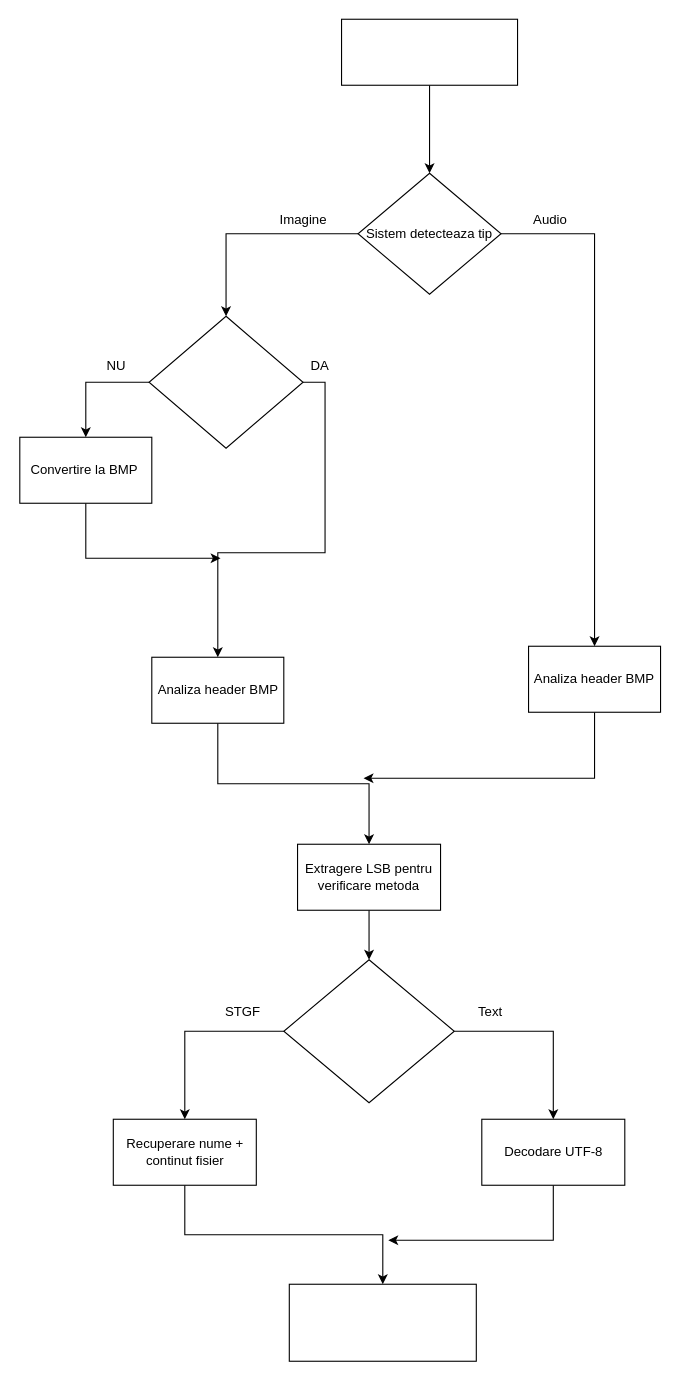
Image size: 680x1381. Some labels were removed from this diagram. The shapes that lost their labels are listed below. From the top down, each one's centre as x and y in pixels, then its label:
At (429,51): "Utilizator incarca fisier modificat".
At (225,381): "Este imaginea de tip BMP?".
At (368,1031): "Verificare magic header".
At (382,1322): "Afisare in UI / salvare fisier".
